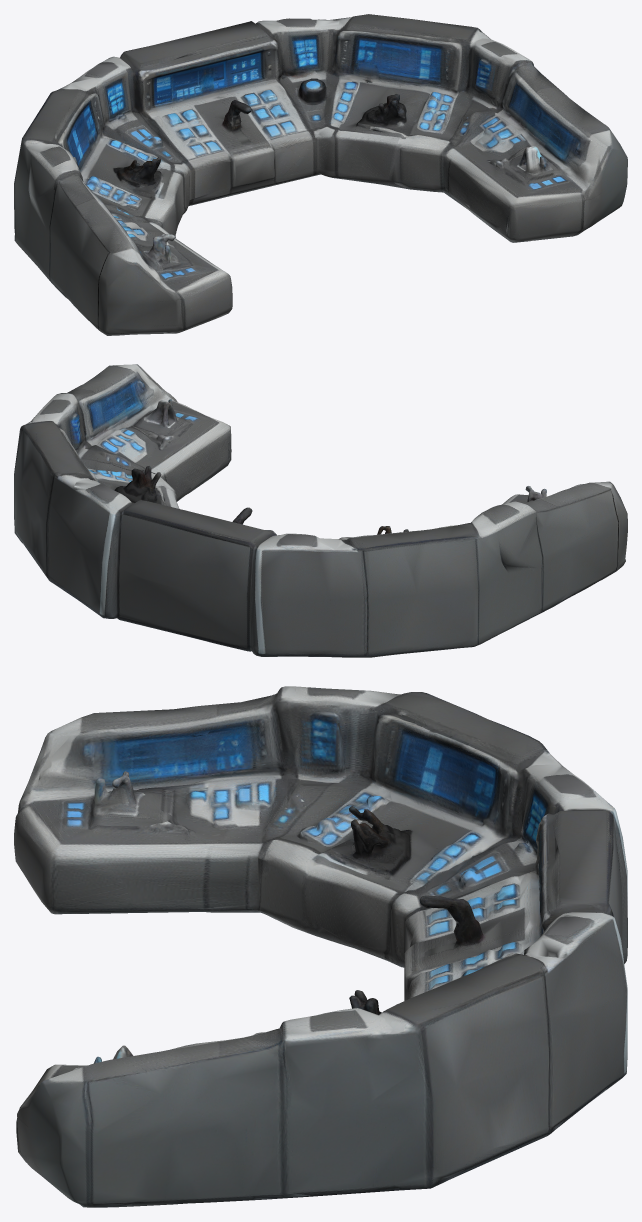
The model's file is Meshy_AI_Curved_Starship_Bridg_0806082019_texture.fbx.
The picture shows the model from 3 angles, top to bottom: view 1: azimuth 30°, elevation 25°; view 2: azimuth 150°, elevation 25°; view 3: azimuth 270°, elevation 25°; orthographic projection. The views are drawn at different scales.
Visible parts, largest first — view 1: Mesh_0; view 2: Mesh_0; view 3: Mesh_0.
Boxes of the visible parts, x1=… form: Mesh_0: x1=14, y1=14, x2=627, y2=335; Mesh_0: x1=14, y1=364, x2=627, y2=657; Mesh_0: x1=14, y1=686, x2=627, y2=1207.
Bounding box in the file's own units: 200 × 41.18 × 135.
1 material, 1 textured.
